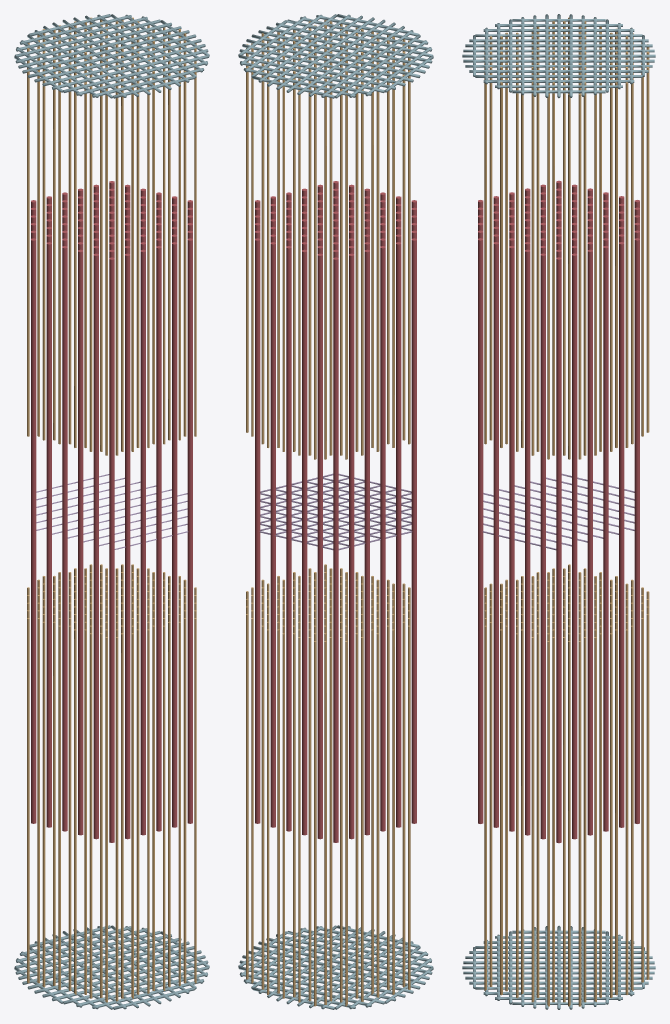
File: sarcomere-context.glb
3 views of the same model, side by side, from view 1: azimuth 30°, elevation 25°; view 2: azimuth 150°, elevation 25°; view 3: azimuth 270°, elevation 25° (orthographic).
Visible parts, largest first — view 1: pilot-thick-filaments, pilot-thin-left, pilot-thin-right, pilot-z-right, pilot-z-left, pilot-m-line; view 2: pilot-thick-filaments, pilot-thin-left, pilot-thin-right, pilot-z-right, pilot-z-left, pilot-m-line; view 3: pilot-thick-filaments, pilot-thin-left, pilot-thin-right, pilot-z-right, pilot-z-left, pilot-m-line.
Part boxes in pixels (x1,y1,x2,y2): pilot-thick-filaments: (31, 181, 192, 842); pilot-thin-left: (27, 564, 196, 1002); pilot-thin-right: (27, 17, 196, 455); pilot-z-right: (14, 14, 209, 98); pilot-z-left: (14, 925, 209, 1009); pilot-m-line: (36, 474, 188, 549); pilot-thick-filaments: (255, 181, 416, 842); pilot-thin-left: (246, 564, 410, 1006); pilot-thin-right: (246, 20, 410, 459); pilot-z-right: (238, 14, 433, 98); pilot-z-left: (238, 925, 433, 1009); pilot-m-line: (259, 473, 412, 550); pilot-thick-filaments: (478, 180, 639, 843); pilot-thin-left: (484, 564, 649, 1006); pilot-thin-right: (484, 17, 649, 459); pilot-z-right: (462, 14, 655, 98); pilot-z-left: (462, 925, 655, 1009); pilot-m-line: (482, 473, 634, 550).
Bounding box in the file's own units: 4.8e-07 × 2.51e-06 × 4.8e-07.
